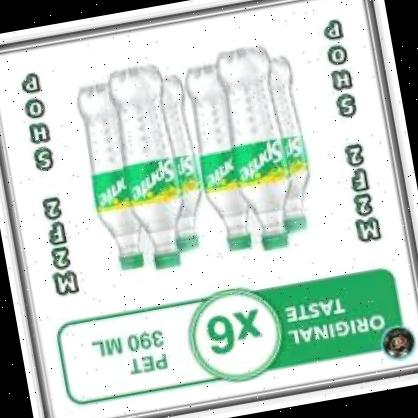bottle: (209, 39, 297, 258), (104, 54, 184, 279), (68, 84, 148, 282), (178, 56, 254, 254), (256, 48, 320, 240), (149, 81, 203, 255)
cap: (258, 226, 292, 257), (114, 249, 147, 276), (151, 248, 185, 273), (224, 229, 254, 256), (279, 213, 309, 239), (174, 235, 202, 258)
label: (235, 140, 291, 190), (132, 163, 184, 205), (82, 166, 132, 208), (199, 152, 246, 192), (276, 141, 316, 176), (172, 162, 202, 197)
